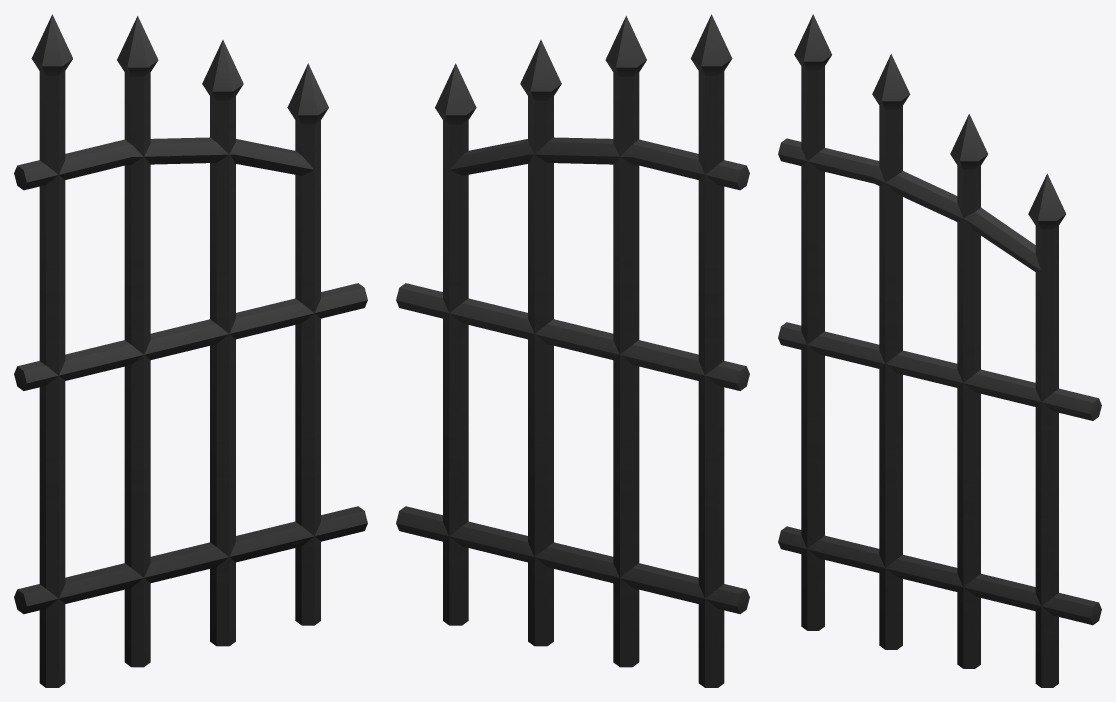
Rendered from arch_gate_left.obj.
3 views of the same model, side by side, from view 1: azimuth 30°, elevation 25°; view 2: azimuth 150°, elevation 25°; view 3: azimuth 330°, elevation 25° (orthographic). The views are drawn at different scales.
Parts seen in each view (by area): view 1: arch_gate_left_Cylinder.096; view 2: arch_gate_left_Cylinder.096; view 3: arch_gate_left_Cylinder.096.
Part boxes in pixels (bbox=[...]): arch_gate_left_Cylinder.096: bbox=[14, 14, 367, 687]; arch_gate_left_Cylinder.096: bbox=[396, 14, 749, 687]; arch_gate_left_Cylinder.096: bbox=[778, 14, 1101, 687].
Bounding box in the file's own units: 1.6 × 3 × 0.1696.
1 material, 1 textured.
